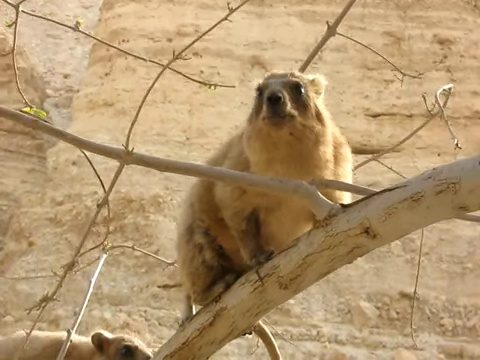Rock Hyrex: (178, 70, 353, 308)
